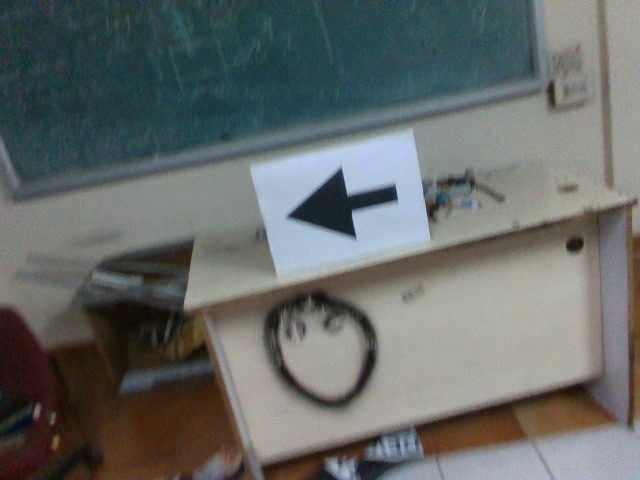Left: (278, 162, 402, 242)
